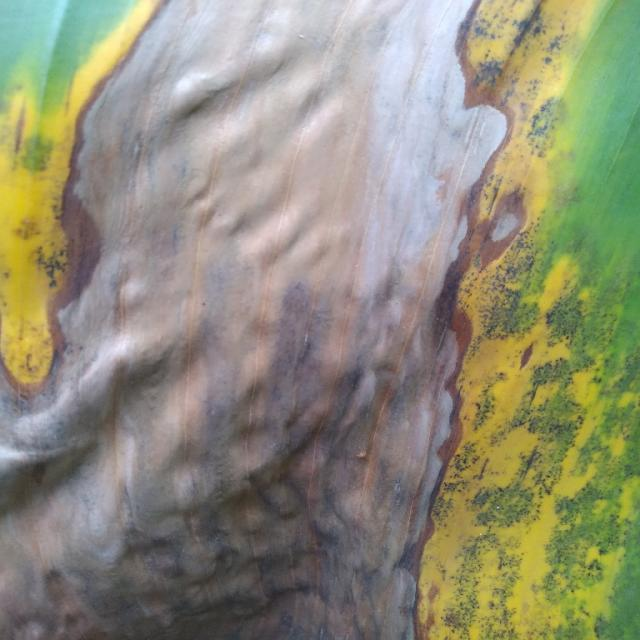Early_rust: (325, 0, 640, 640), (0, 0, 190, 398)
